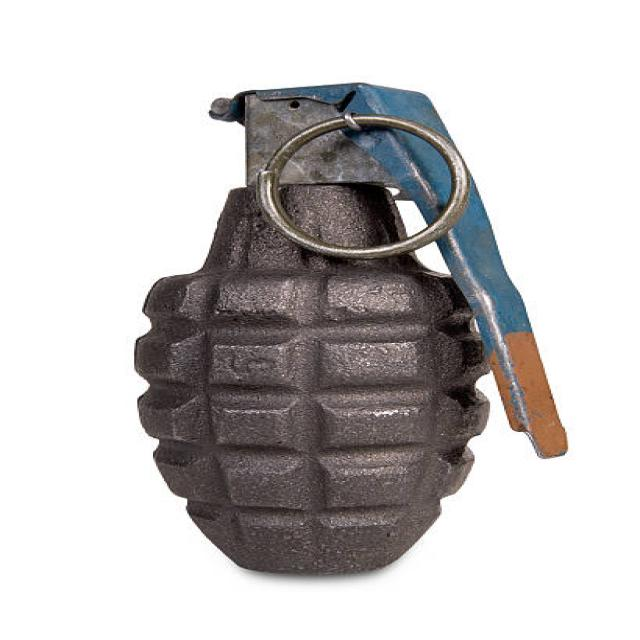grenade: (129, 77, 572, 581)
